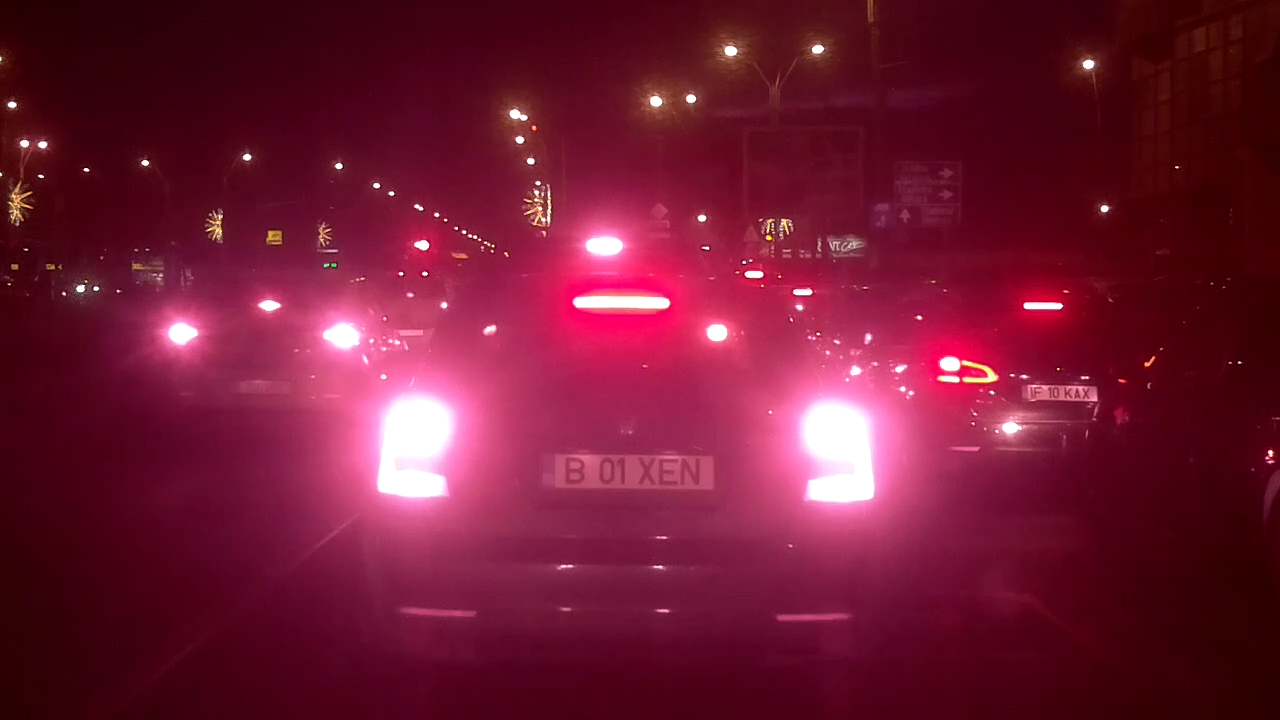license-plate: (535, 448, 719, 495), (1017, 381, 1101, 404)
